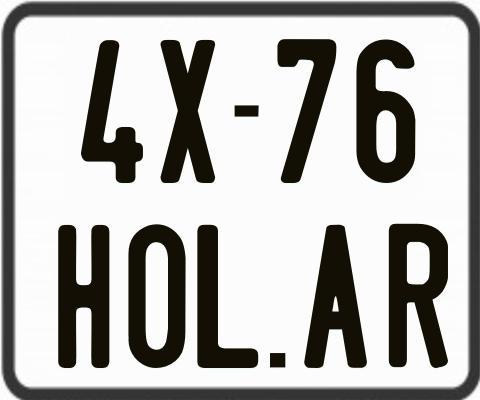0: (128, 223, 192, 370)
4: (81, 40, 143, 188)
6: (356, 38, 420, 182)
7: (276, 36, 337, 181)
A: (304, 224, 370, 371)
H: (55, 222, 106, 365)
L: (195, 225, 261, 368)
R: (387, 224, 448, 368)
X: (160, 39, 216, 186)
